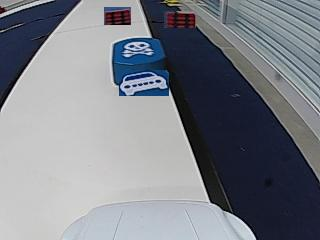danger: (123, 41, 153, 57)
